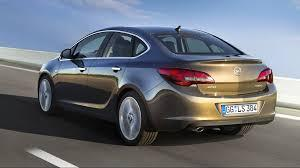opel: (232, 64, 242, 76)
